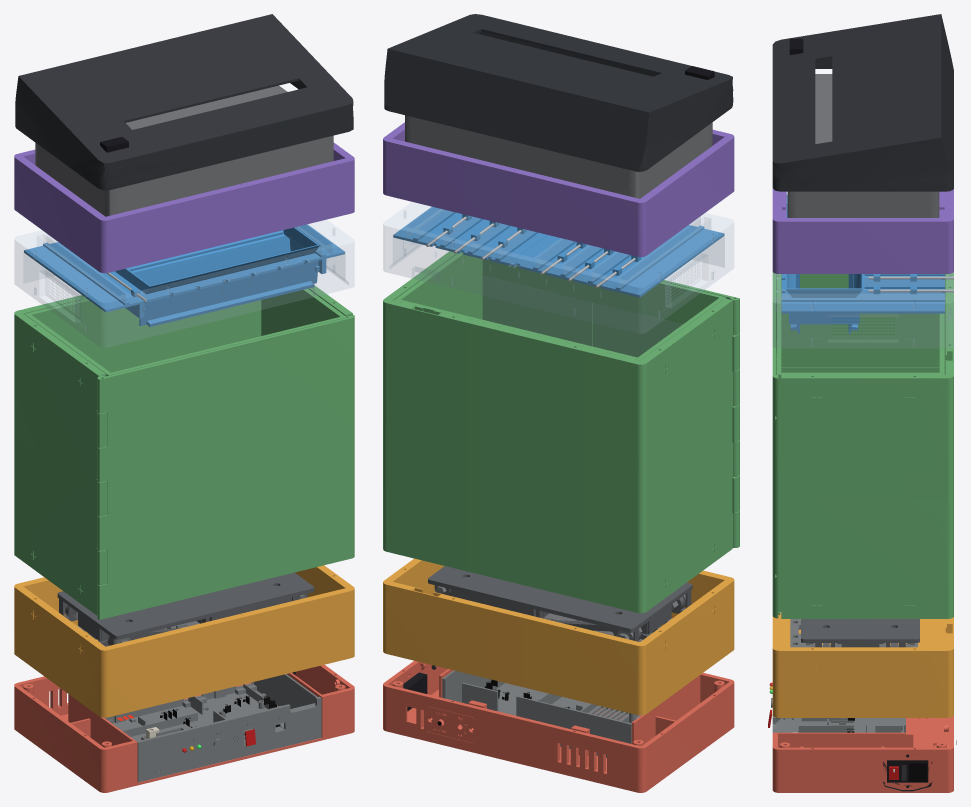
The picture shows the model from 3 angles, left to right: view 1: azimuth 30°, elevation 25°; view 2: azimuth 150°, elevation 25°; view 3: azimuth 270°, elevation 25°; orthographic projection. The views are drawn at different scales.
Parts seen in each view (by area): view 1: s2_door, head, s1_box, s3, s2_outer, s4, s0_drawer, s2_bin, s0_fixed, lift_접힘; view 2: s2_outer, head, s1_box, s3, s4, s0_fixed, s2_bin, s2_door, lift_접힘, s0_drawer; view 3: s2_outer, head, s1_box, s3, s0_fixed, s2_bin, s4, lift_접힘, s2_door, s0_drawer, s1_liftfix.
Boxes of the visible parts, x1,y1,x2,y2 form: s2_door: (97, 315, 354, 619); head: (15, 14, 353, 216); s1_box: (14, 565, 354, 717); s3: (15, 220, 353, 346); s2_outer: (14, 285, 352, 615); s4: (14, 142, 354, 273); s0_drawer: (105, 674, 321, 782); s2_bin: (24, 288, 346, 376); s0_fixed: (14, 664, 354, 792); lift_접힘: (57, 572, 314, 646); s2_outer: (383, 251, 739, 613); head: (384, 14, 733, 198); s1_box: (383, 558, 734, 715); s3: (383, 202, 733, 333); s4: (383, 122, 734, 256); s0_fixed: (383, 660, 734, 792); s2_bin: (394, 252, 726, 360); s2_door: (482, 275, 739, 547); lift_접힘: (428, 566, 692, 641); s0_drawer: (442, 670, 640, 757); s2_outer: (776, 272, 953, 618); head: (772, 14, 953, 217); s1_box: (772, 612, 953, 717); s3: (773, 193, 953, 347); s0_fixed: (772, 716, 956, 792); s2_bin: (776, 274, 944, 611); s4: (772, 188, 953, 273); lift_접힘: (801, 619, 919, 647); s2_door: (772, 272, 780, 618); s0_drawer: (768, 682, 905, 732); s1_liftfix: (790, 619, 917, 647).
Bounding box in the file's own units: 0.3562 × 0.849 × 0.2217.
